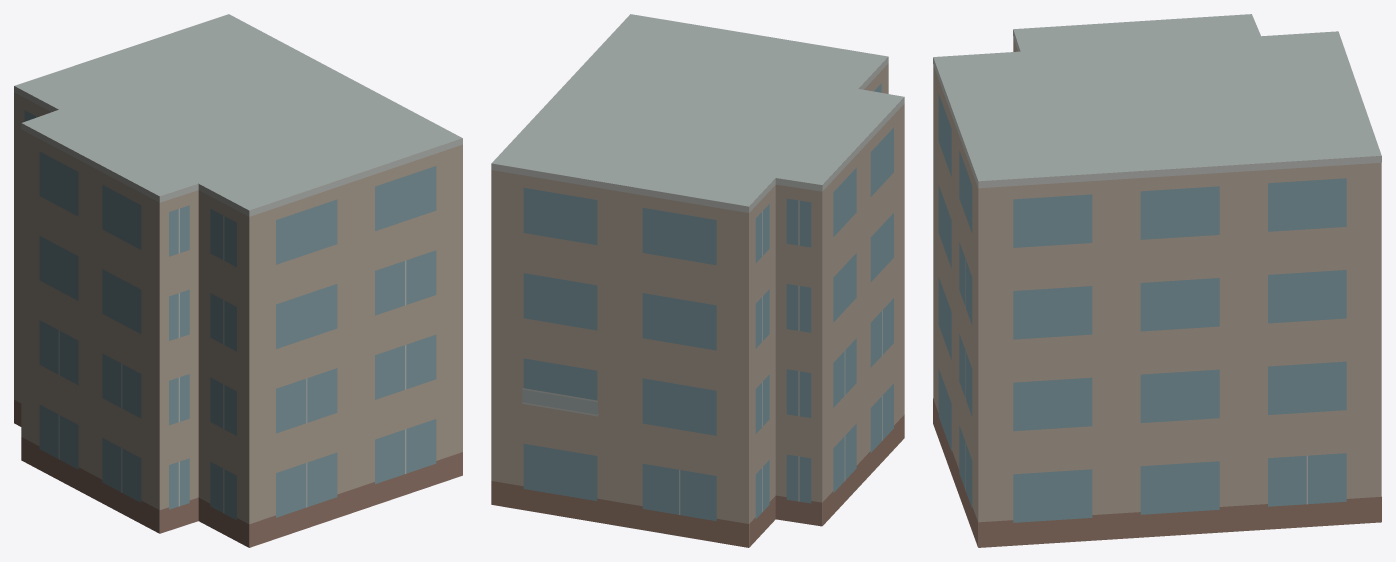
Rendered from survey-upis-32714581.glb.
The picture shows the model from 3 angles, left to right: view 1: azimuth 30°, elevation 25°; view 2: azimuth 150°, elevation 25°; view 3: azimuth 270°, elevation 25°; orthographic projection. The views are drawn at different scales.
Visible parts, largest first — view 1: survey-upis-32714581.tmp; view 2: survey-upis-32714581.tmp; view 3: survey-upis-32714581.tmp.
Boxes of the visible parts, <box> form: survey-upis-32714581.tmp: <box>14,14,462,547</box>; survey-upis-32714581.tmp: <box>491,14,904,547</box>; survey-upis-32714581.tmp: <box>933,14,1381,547</box>.
Size of the model in its own units: 12.54 by 12.8 by 14.21.
